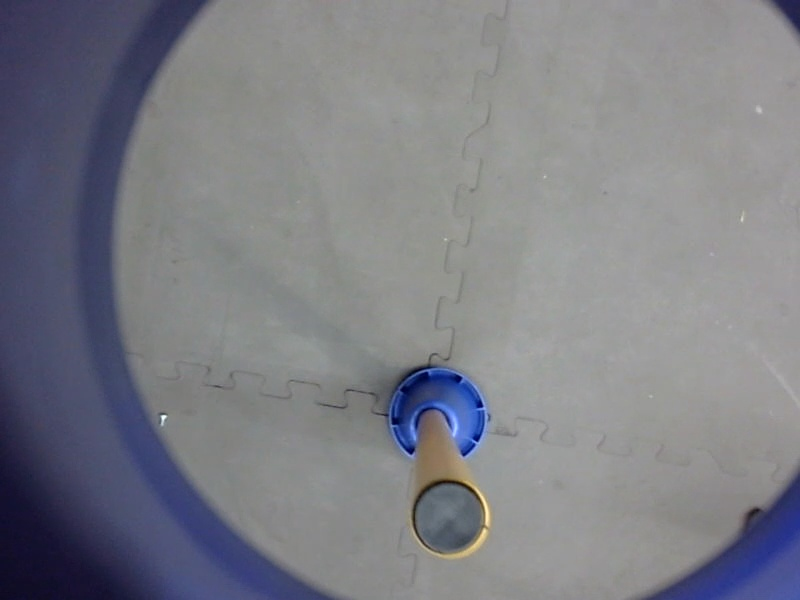tip: (400, 468, 496, 566)
